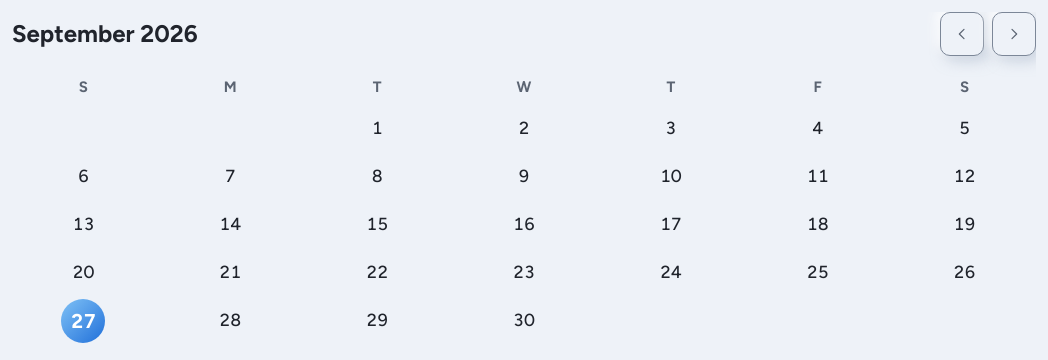
Test case: MiniMonth › Next month advances the grid and today is no longer highlighted
Click the button named "Next month" at (1014, 34), box [992, 12, 1036, 56]
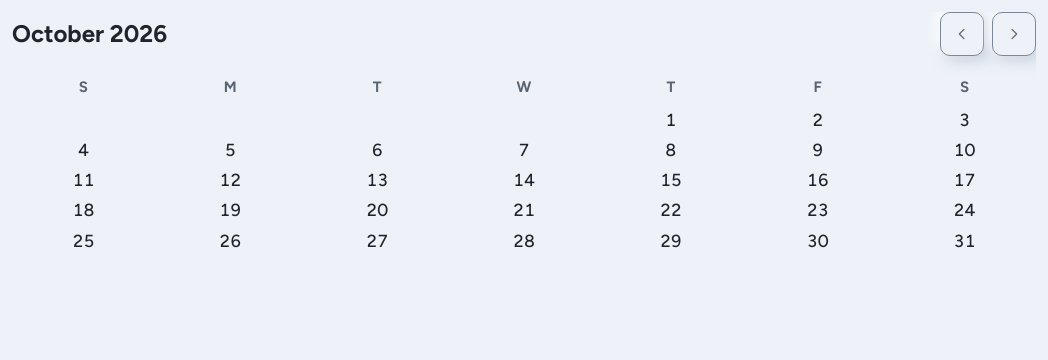
Now the text "October 2026" is shown, box [12, 16, 167, 52]
